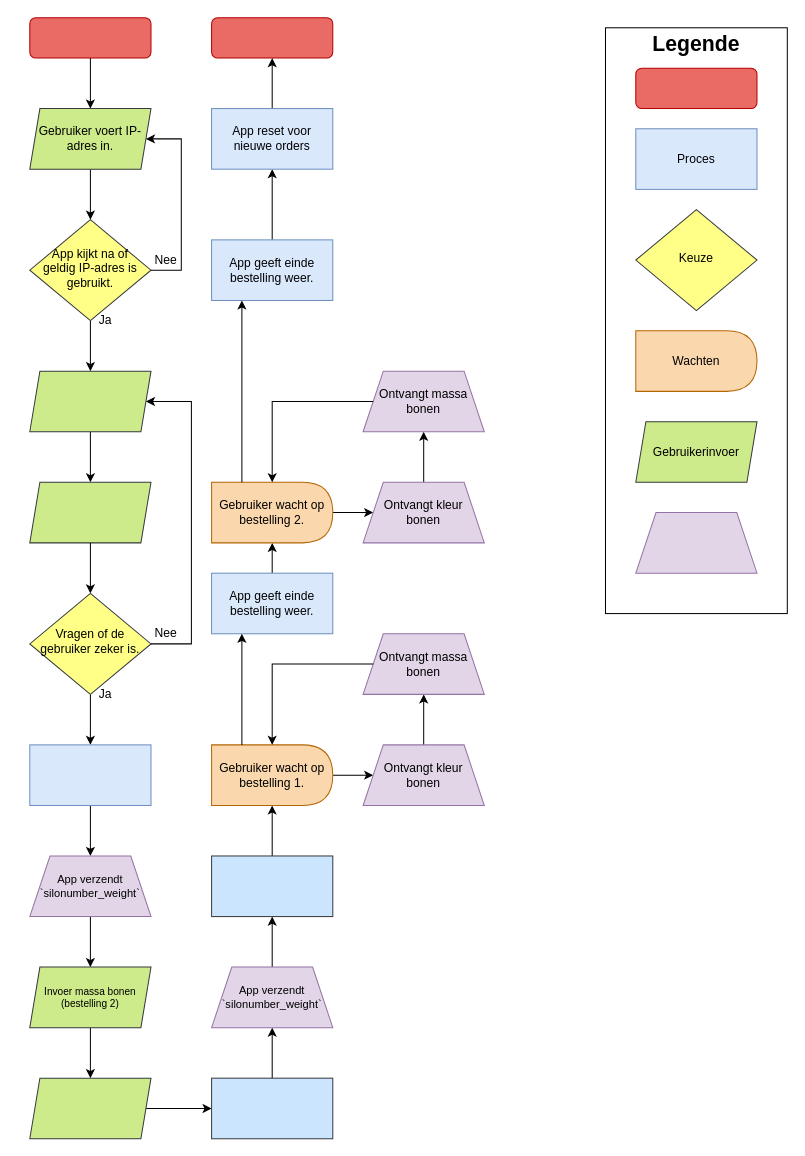
Some shapes in this 805 by 1156 pixel diagram are drawn without their labels. Each missing label, with the centre of its shape:
App geeft huidige bestellingen weer: point (272, 886)
Creëert eerste orderWidget: point (90, 774)
Creëert tweede orderWidget: point (272, 1108)
Einde: point (272, 37)
Invoer kleur bonen (bestelling 1): point (90, 512)
Invoer kleur bonen (bestelling 2): point (90, 1108)
Invoer massa bonen (bestelling 1): point (90, 401)
Start: point (90, 37)
Start/einde: point (696, 88)
Verzenden en ontvangen MQTT: point (696, 542)
